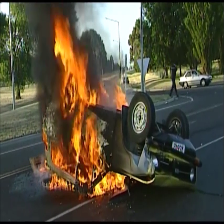fire_h: (51, 11, 109, 183), (86, 170, 126, 198), (43, 173, 74, 190)
fire_l: (114, 85, 128, 110), (39, 158, 50, 172), (41, 127, 48, 149)
